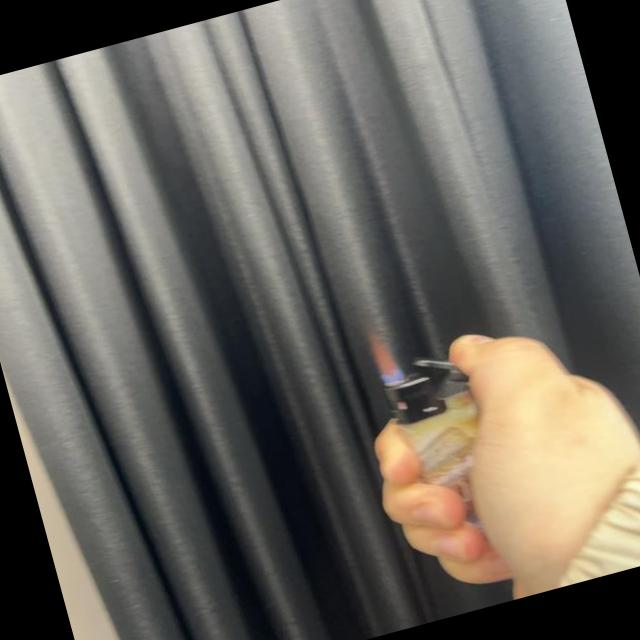Fire: (362, 319, 406, 388)
